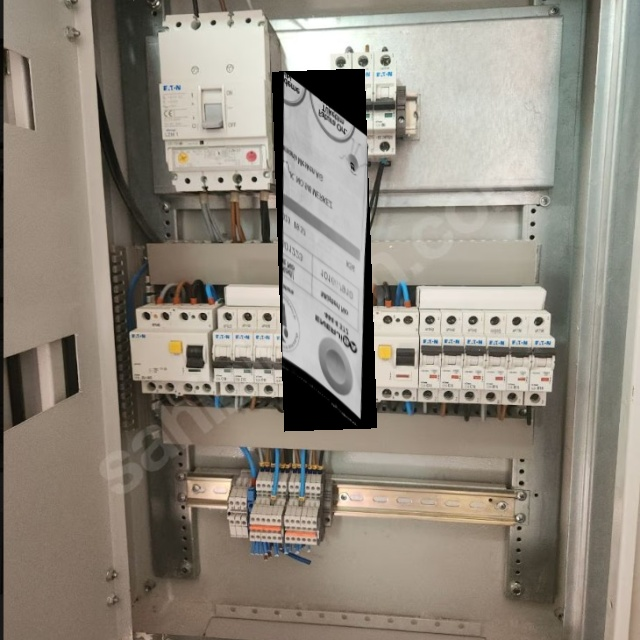electricity-bill: (272, 69, 376, 431)
